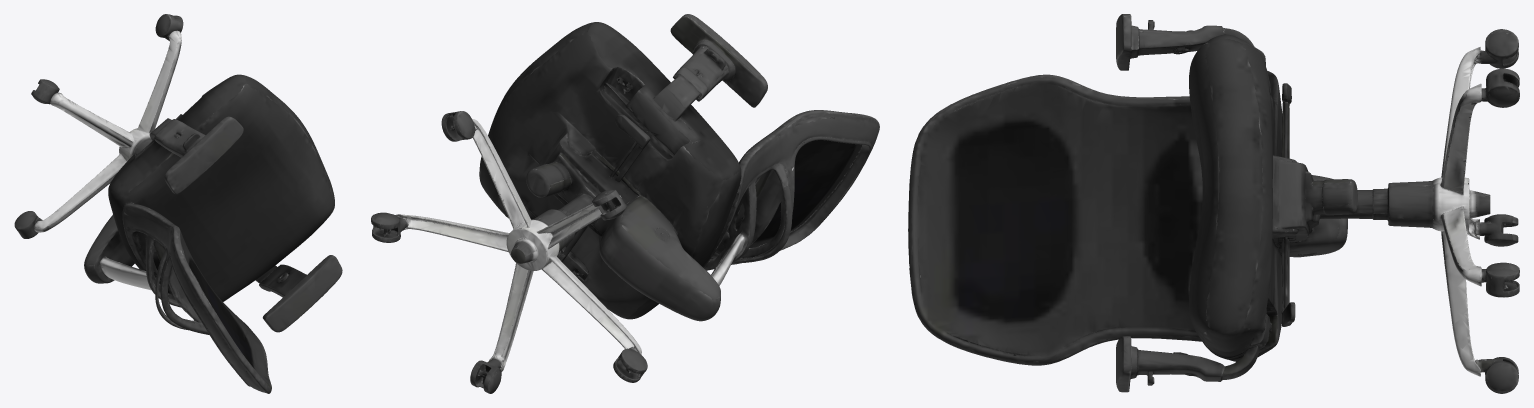
The picture shows the model from 3 angles, left to right: view 1: azimuth 30°, elevation 25°; view 2: azimuth 150°, elevation 25°; view 3: azimuth 270°, elevation 25°; orthographic projection. The views are drawn at different scales.
Parts seen in each view (by area): view 1: Albin.001; view 2: Albin.001; view 3: Albin.001.
Boxes of the visible parts, x1,y1,x2,y2 form: Albin.001: (14,14,342,393); Albin.001: (371,14,879,393); Albin.001: (908,14,1519,393).
Bounding box in the file's own units: 0.0212 × 0.0209 × 0.0323.
Materials: 1 (1 with a texture image).
